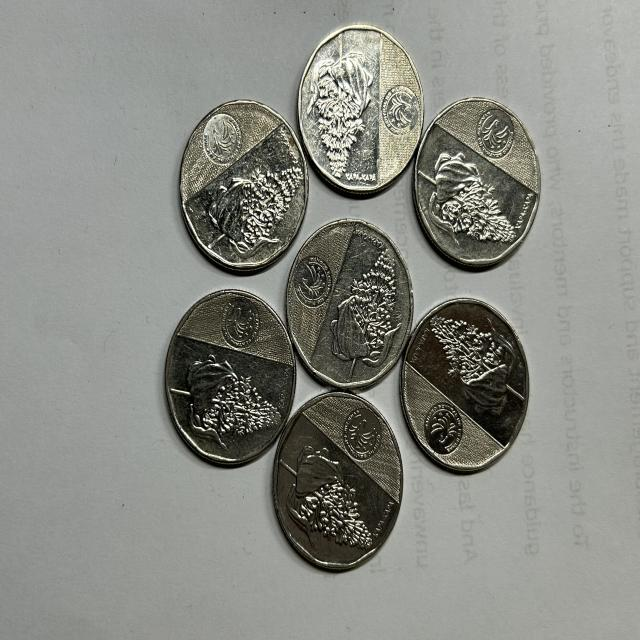10_New_Back: (285, 430, 373, 566), (175, 344, 278, 454), (418, 141, 515, 256), (426, 307, 518, 418), (206, 159, 305, 253), (309, 34, 372, 169), (333, 241, 396, 376)
